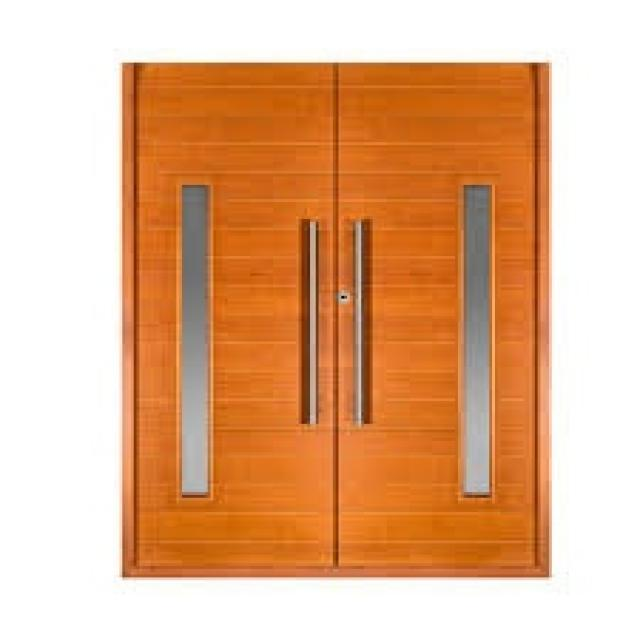door: (121, 61, 550, 579)
